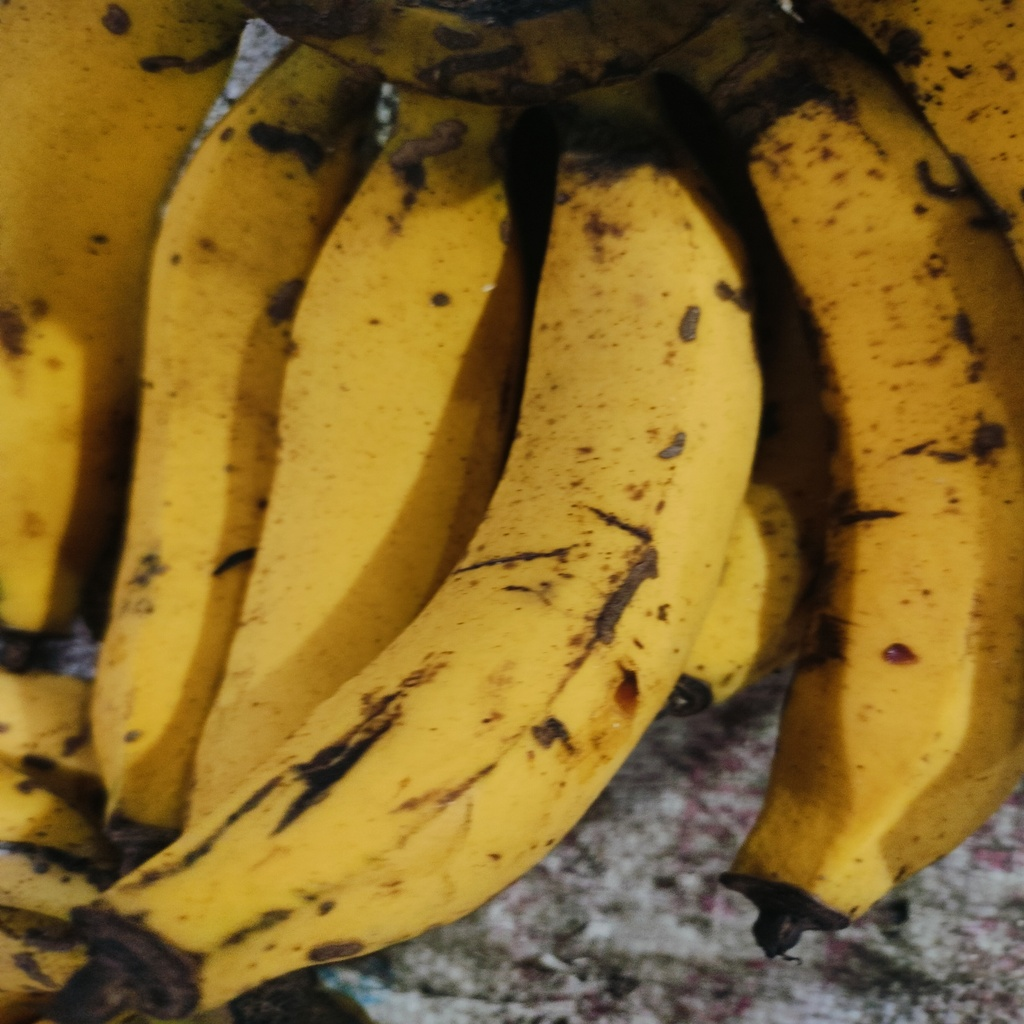unhealthy: (86, 150, 759, 1003)
